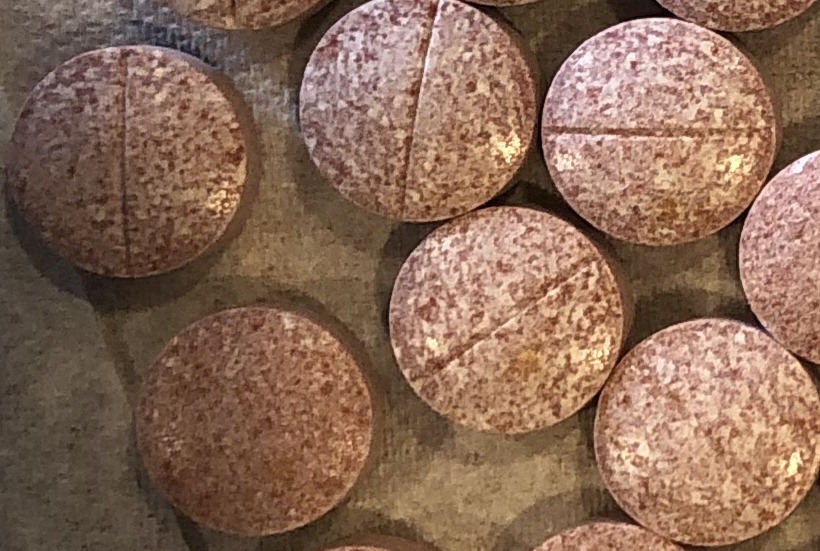tablet: (114, 303, 387, 538), (9, 44, 260, 279), (542, 14, 779, 247), (390, 207, 626, 434), (297, 1, 541, 219), (593, 320, 818, 547), (739, 146, 820, 367)
